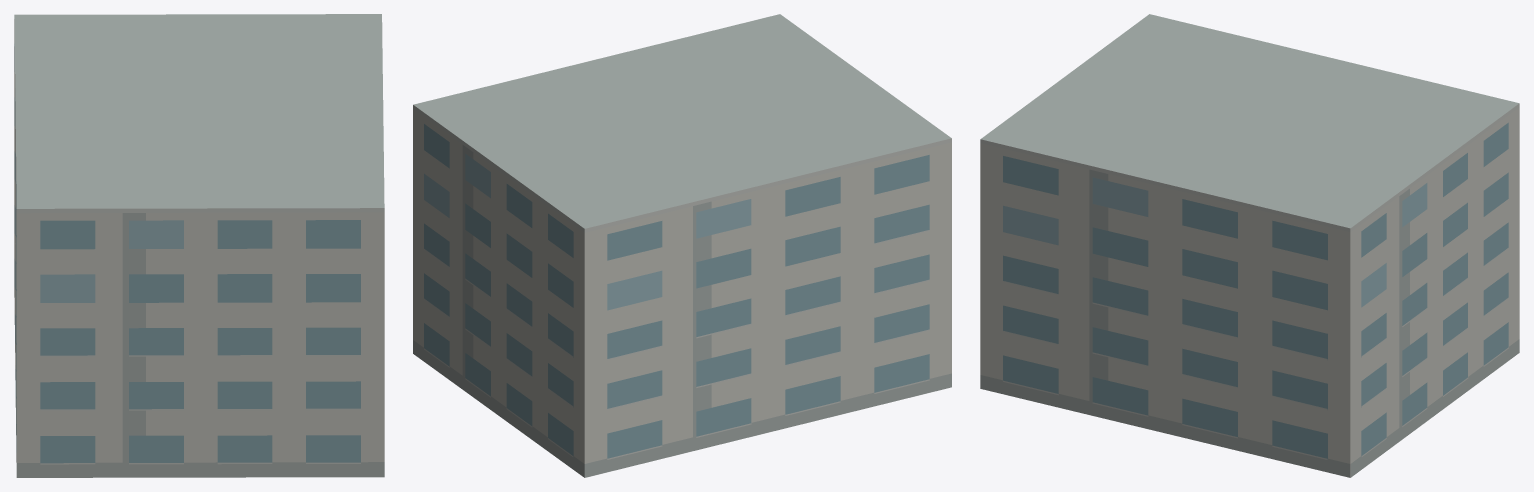
File: residential-3bb0386a-2746-41fd-ba86-261217816e2c.glb
The picture shows the model from 3 angles, left to right: view 1: azimuth 30°, elevation 25°; view 2: azimuth 150°, elevation 25°; view 3: azimuth 270°, elevation 25°; orthographic projection. The views are drawn at different scales.
Visible parts, largest first — view 1: residential-3bb0386a-2746-41fd-ba86-261217816e2c.tmp; view 2: residential-3bb0386a-2746-41fd-ba86-261217816e2c.tmp; view 3: residential-3bb0386a-2746-41fd-ba86-261217816e2c.tmp.
Boxes of the visible parts, bbox=[...] form: residential-3bb0386a-2746-41fd-ba86-261217816e2c.tmp: bbox=[14, 14, 384, 477]; residential-3bb0386a-2746-41fd-ba86-261217816e2c.tmp: bbox=[413, 14, 951, 477]; residential-3bb0386a-2746-41fd-ba86-261217816e2c.tmp: bbox=[980, 14, 1519, 477].
Bounding box in the file's own units: 28.1 × 15.25 × 29.87.
